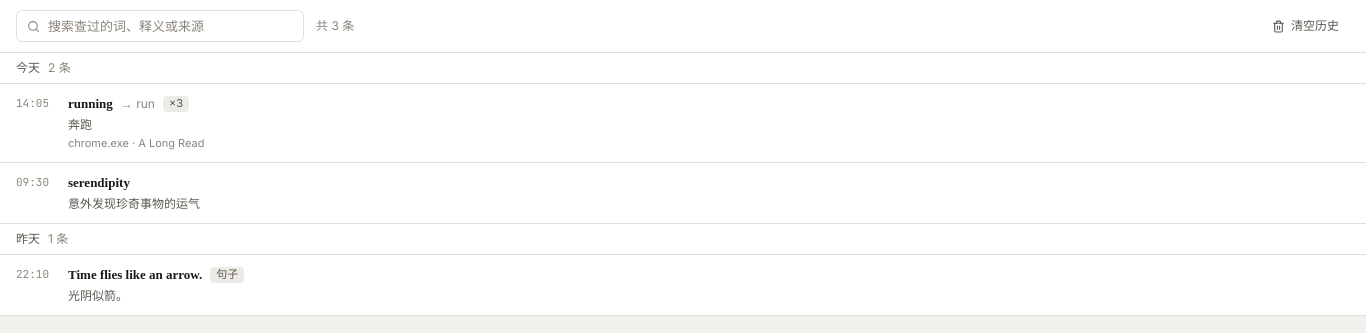
Test: the lookup history tab › forgets everything on confirmation, and says how much
Check: the heading "今天2 条" is shown, box [0, 53, 1365, 84]
Click the button "清空历史": click(1306, 26) [1261, 12, 1350, 40]
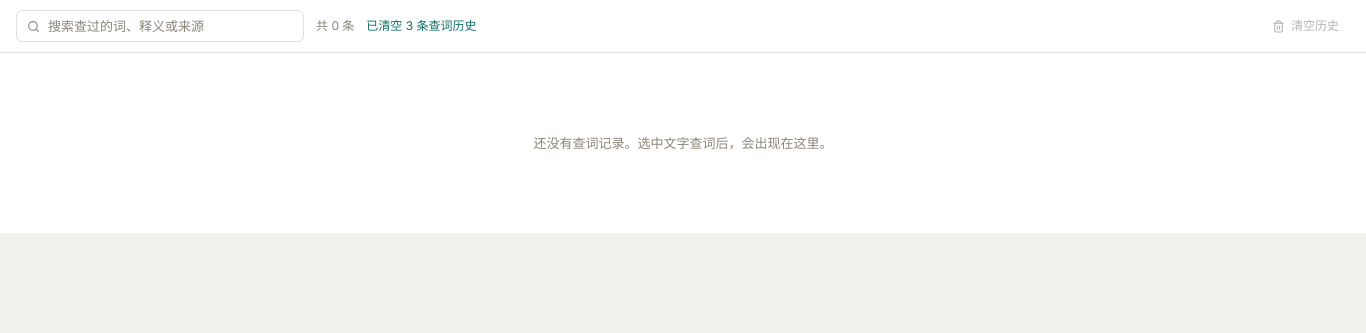
Check: the text "已清空 3 条查词历史" is shown, box [366, 17, 476, 35]
Check: the text "还没有查词记录。选中文字查词后，会出现在这里。" is shown, box [534, 135, 832, 151]
Check: the button "清空历史" is disabled, box [1261, 12, 1350, 40]
